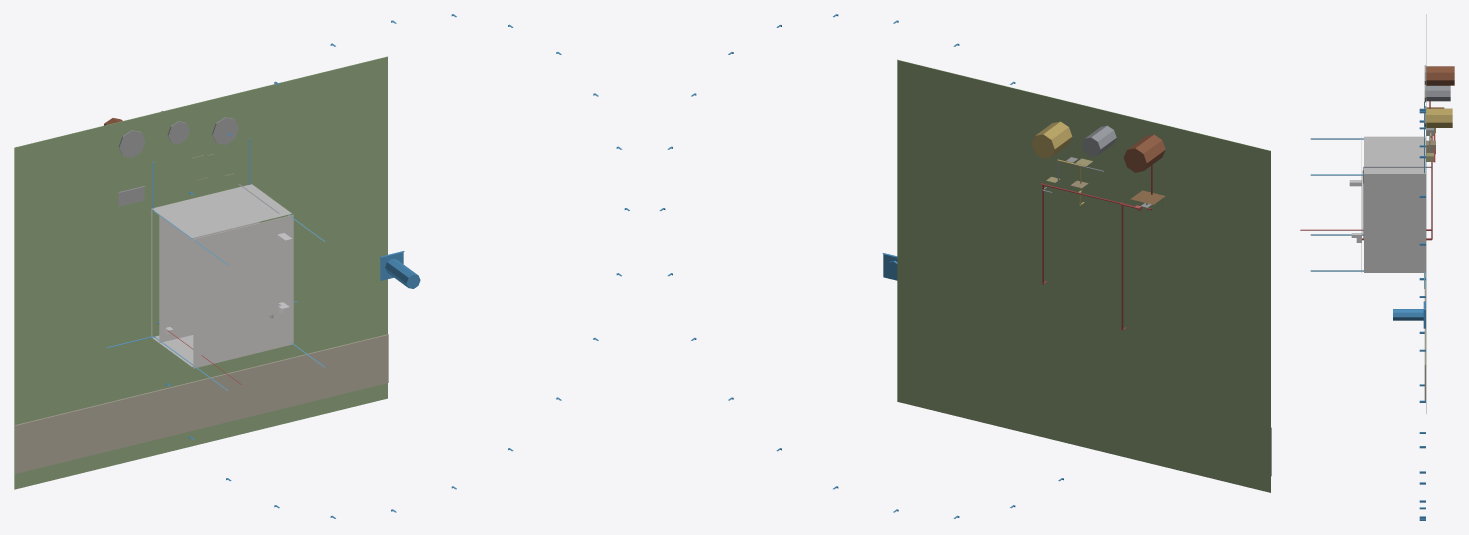
The model's file is plumbing-3d.glb.
3 renders of one model, left to right at view 1: azimuth 30°, elevation 25°; view 2: azimuth 150°, elevation 25°; view 3: azimuth 270°, elevation 25°, orthographic. The views are drawn at different scales.
Parts seen in each view (by area): view 1: ground_plane, chakrode_road, ghost_1f_floor, ghost_back, ghost_gf_floor; view 2: ground_plane, bw_soak_pit, ww_soak_pit, gw_soak_pit; view 3: ghost_right, ghost_back, bw_soak_pit, ww_soak_pit, gw_soak_pit, ground_plane, borewell_marker.
Part boxes in pixels (<box>): ground_plane: <box>14,56,387,489</box>; chakrode_road: <box>15,334,388,473</box>; ghost_1f_floor: <box>193,214,293,368</box>; ghost_back: <box>151,184,291,237</box>; ghost_gf_floor: <box>159,214,259,342</box>; ground_plane: <box>897,59,1270,492</box>; bw_soak_pit: <box>1123,134,1165,172</box>; ww_soak_pit: <box>1031,121,1072,158</box>; gw_soak_pit: <box>1082,125,1116,156</box>; ghost_right: <box>1364,174,1425,272</box>; ghost_back: <box>1364,136,1425,174</box>; bw_soak_pit: <box>1426,66,1454,85</box>; ww_soak_pit: <box>1426,108,1452,127</box>; gw_soak_pit: <box>1426,85,1450,101</box>; ground_plane: <box>1426,14,1426,413</box>; borewell_marker: <box>1393,309,1423,320</box>.
Bounding box in the file's own units: 39.91 × 30.6 × 11.43.
